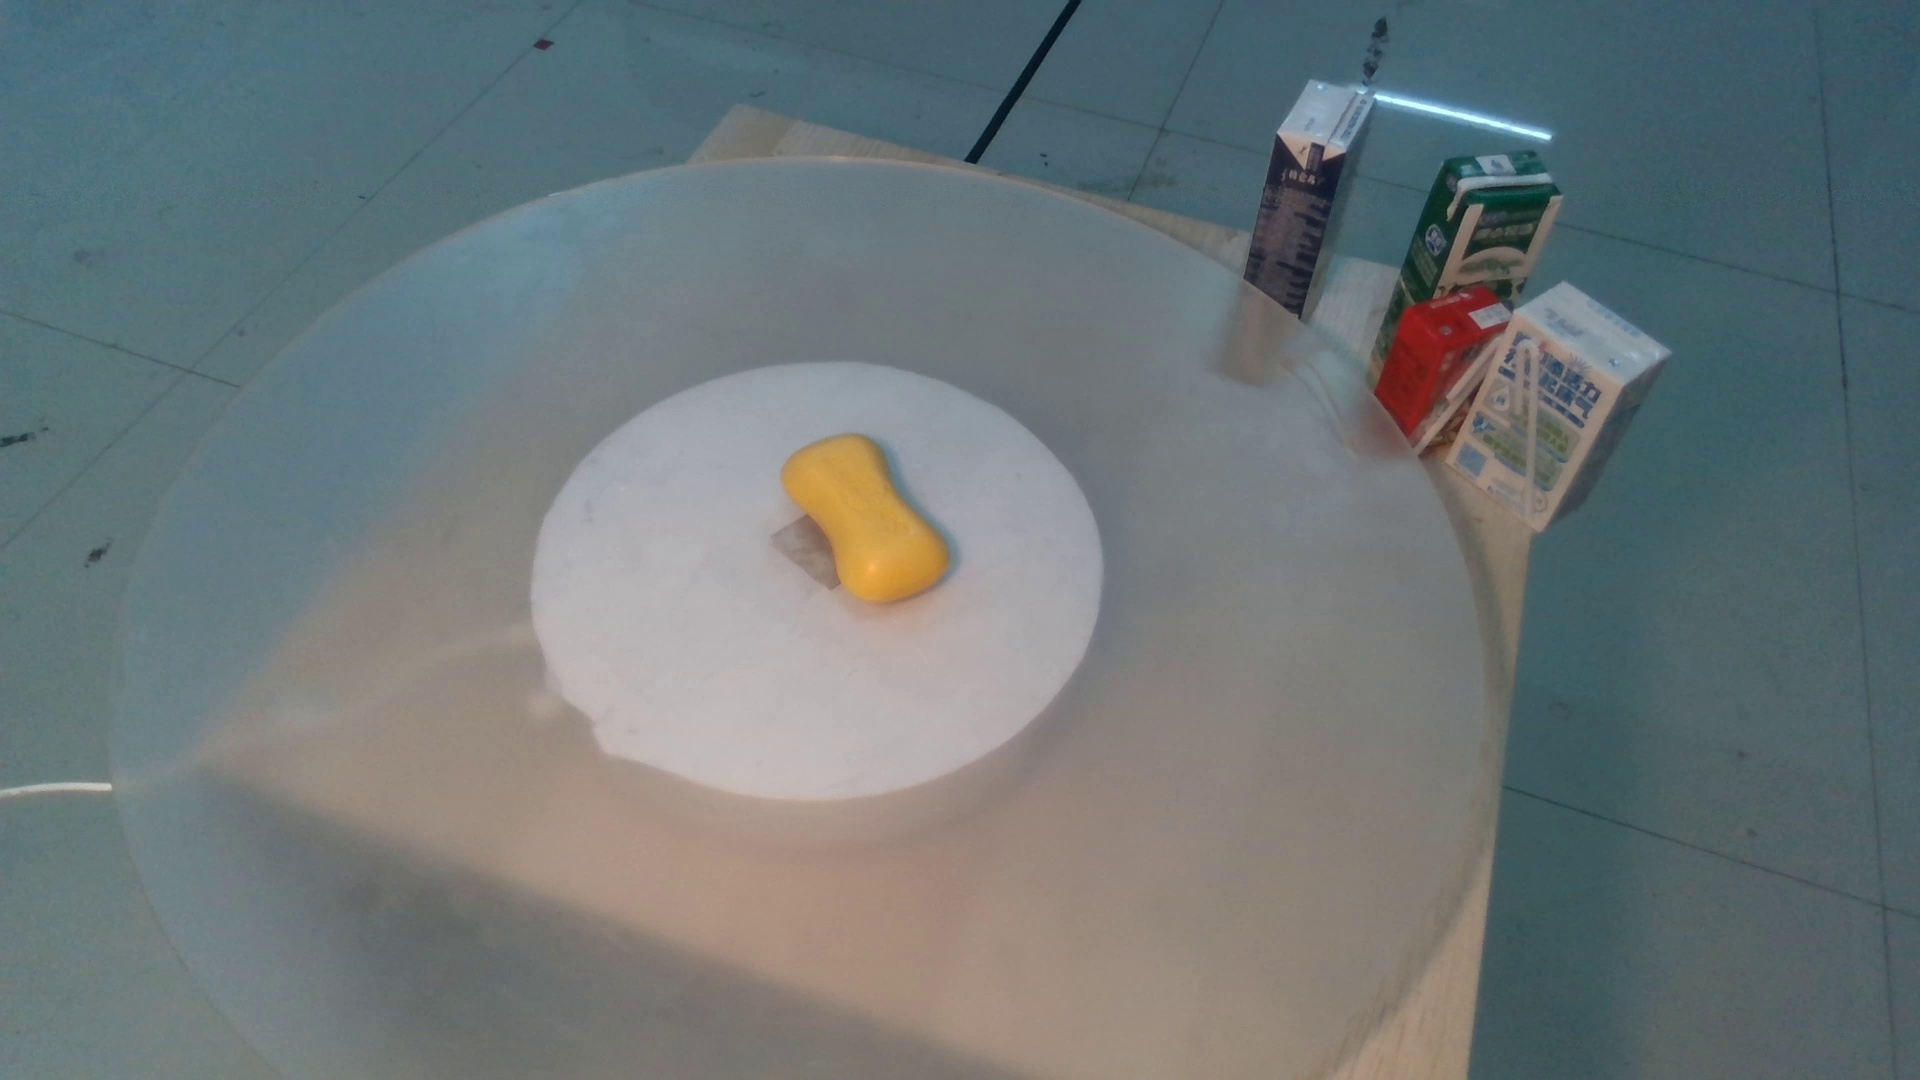CA003_1: (764, 425, 969, 621)
